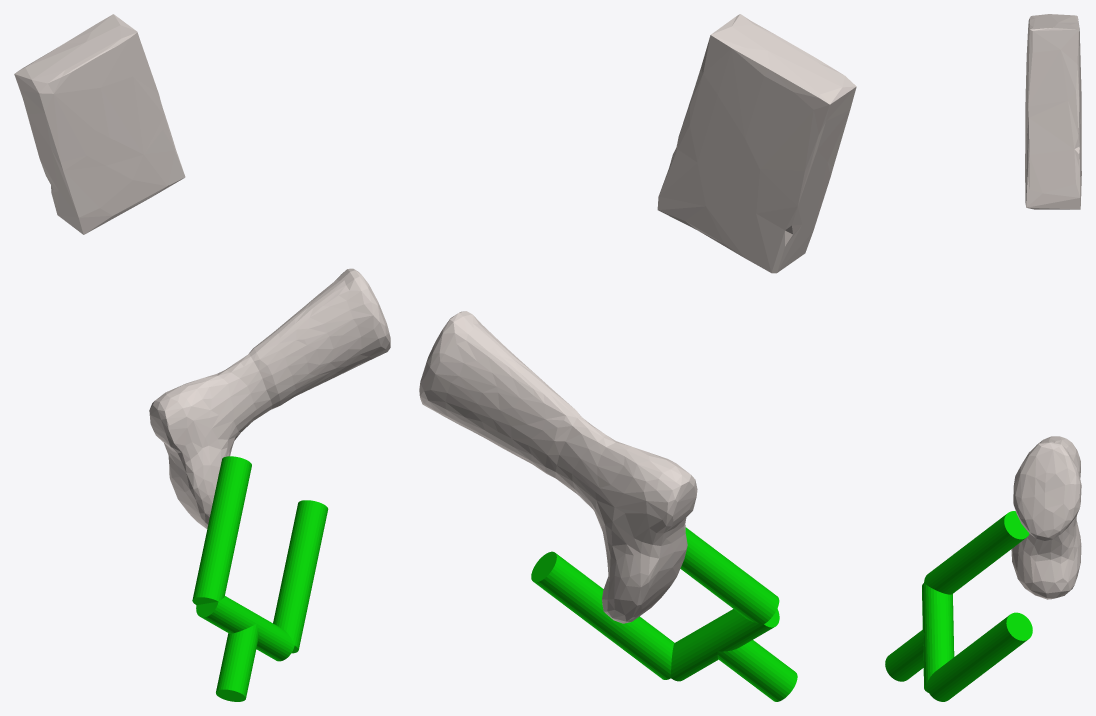
File: round_000_trial_004.obj
The picture shows the model from 3 angles, left to right: view 1: azimuth 30°, elevation 25°; view 2: azimuth 150°, elevation 25°; view 3: azimuth 270°, elevation 25°; orthographic projection. The views are drawn at different scales.
Parts seen in each view (by area): view 1: geometry_0, geometry_1; view 2: geometry_0, geometry_1; view 3: geometry_0, geometry_1.
Boxes of the visible parts, bbox=[...] form: geometry_0: bbox=[14, 14, 390, 528]; geometry_1: bbox=[192, 456, 328, 701]; geometry_0: bbox=[419, 14, 856, 623]; geometry_1: bbox=[531, 527, 797, 701]; geometry_0: bbox=[1011, 14, 1081, 599]; geometry_1: bbox=[885, 511, 1032, 701].
Size of the model in its own units: 0.1334 by 0.2267 by 0.0637.
